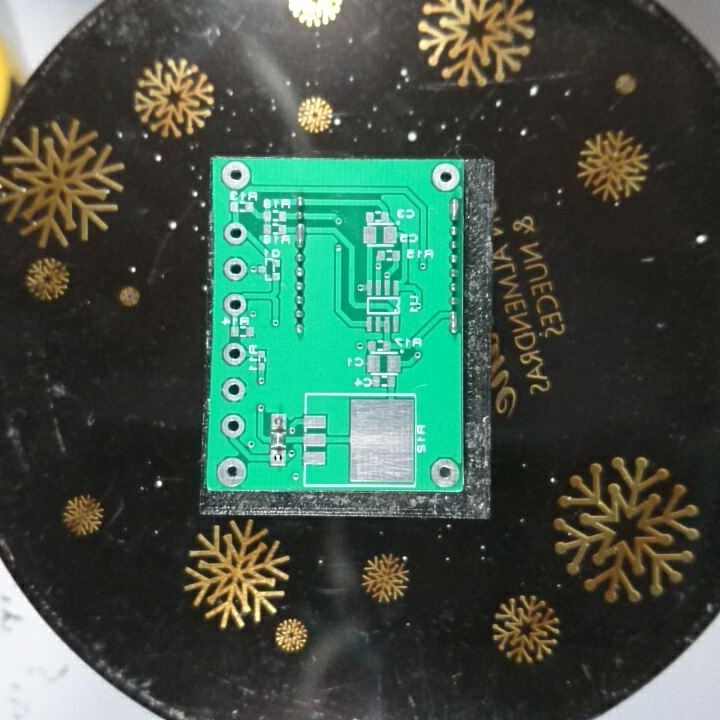F: (219, 159, 253, 193), (428, 455, 462, 489), (215, 454, 250, 487), (429, 160, 461, 192), (223, 218, 249, 251), (221, 340, 249, 369), (219, 412, 247, 440), (220, 377, 250, 403), (222, 255, 249, 283), (221, 290, 248, 318), (268, 446, 289, 472), (268, 410, 289, 432)
P: (291, 222, 309, 252), (448, 195, 463, 223), (447, 307, 461, 337)
